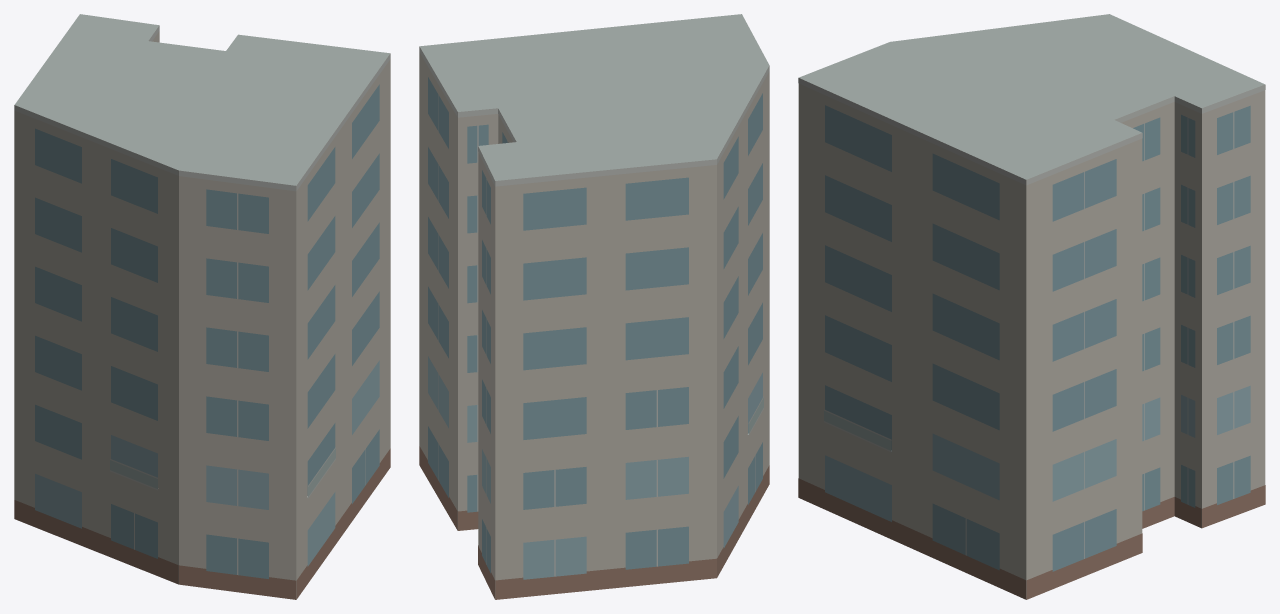
The model's file is survey-upis-32753611.glb.
The picture shows the model from 3 angles, left to right: view 1: azimuth 30°, elevation 25°; view 2: azimuth 150°, elevation 25°; view 3: azimuth 270°, elevation 25°; orthographic projection.
Visible parts, largest first — view 1: survey-upis-32753611.tmp; view 2: survey-upis-32753611.tmp; view 3: survey-upis-32753611.tmp.
Part boxes in pixels (<box>): survey-upis-32753611.tmp: <box>14,14,390,599</box>; survey-upis-32753611.tmp: <box>419,14,769,599</box>; survey-upis-32753611.tmp: <box>798,14,1265,599</box>.
Bounding box in the file's own units: 15.51 × 18.3 × 18.45.
